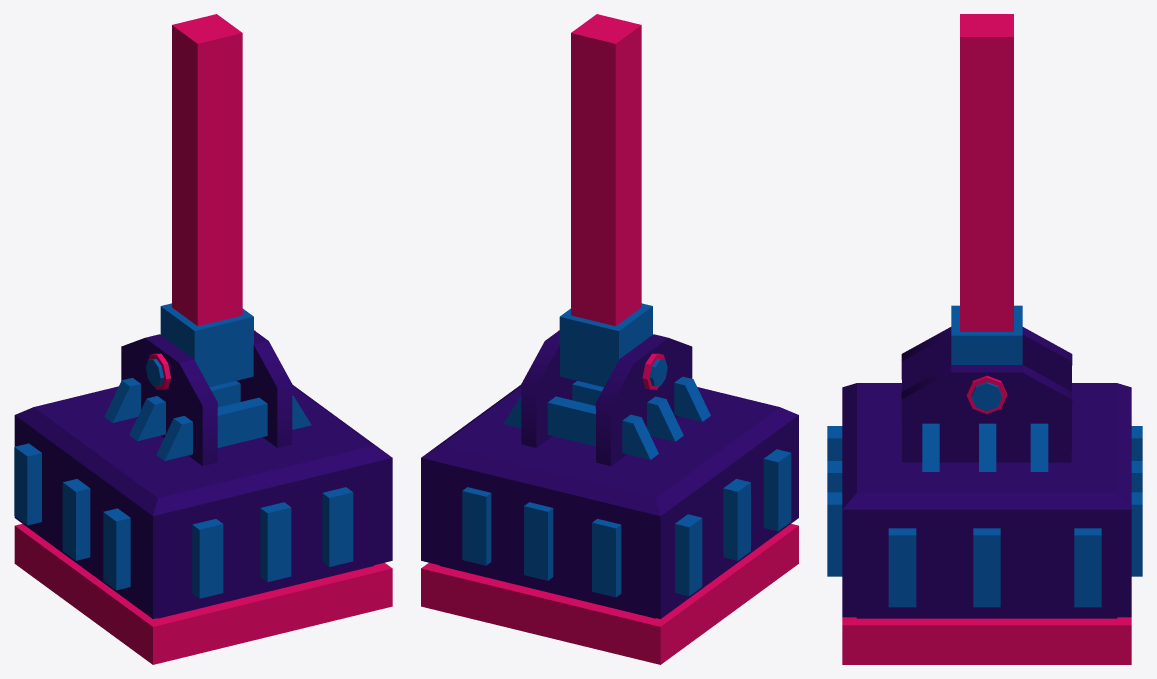
Rendered from aplastador.fbx.
3 renders of one model, left to right at view 1: azimuth 30°, elevation 25°; view 2: azimuth 150°, elevation 25°; view 3: azimuth 270°, elevation 25°, orthographic. The views are drawn at different scales.
Visible parts, largest first — view 1: pCylinder5; view 2: pCylinder5; view 3: pCylinder5.
Part boxes in pixels (left/top/right/bottom): pCylinder5: left=14, top=14, right=392, bottom=664; pCylinder5: left=421, top=14, right=798, bottom=664; pCylinder5: left=827, top=14, right=1142, bottom=664.
Size of the model in its own units: 4.52 by 8.95 by 4.4.
